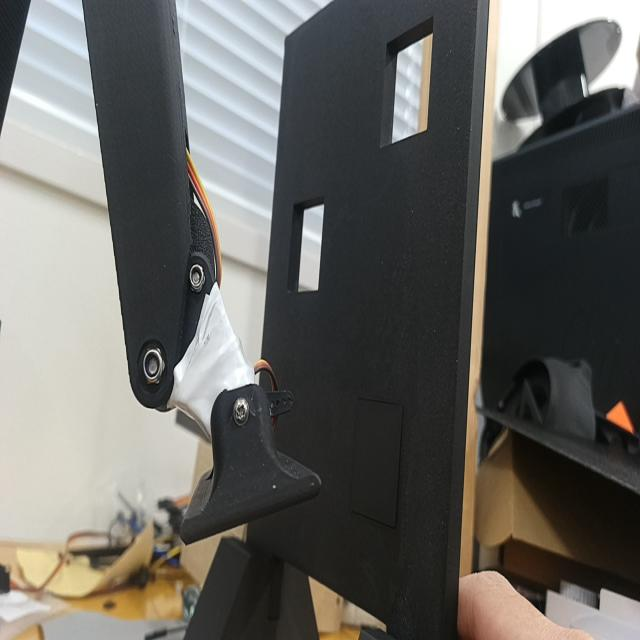Obstacle: (380, 17, 433, 151), (288, 196, 326, 292)
Wall: (250, 0, 479, 639)
